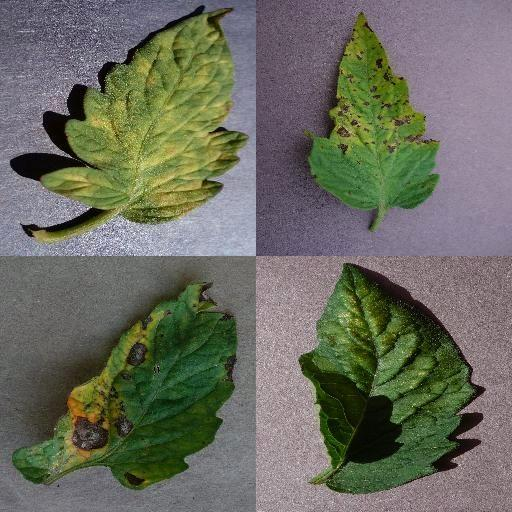Early Blight: (13, 279, 239, 489)
Leaf Mold: (40, 7, 248, 225)
Septoria: (307, 10, 440, 210)
Spider Mites: (299, 263, 475, 495)
